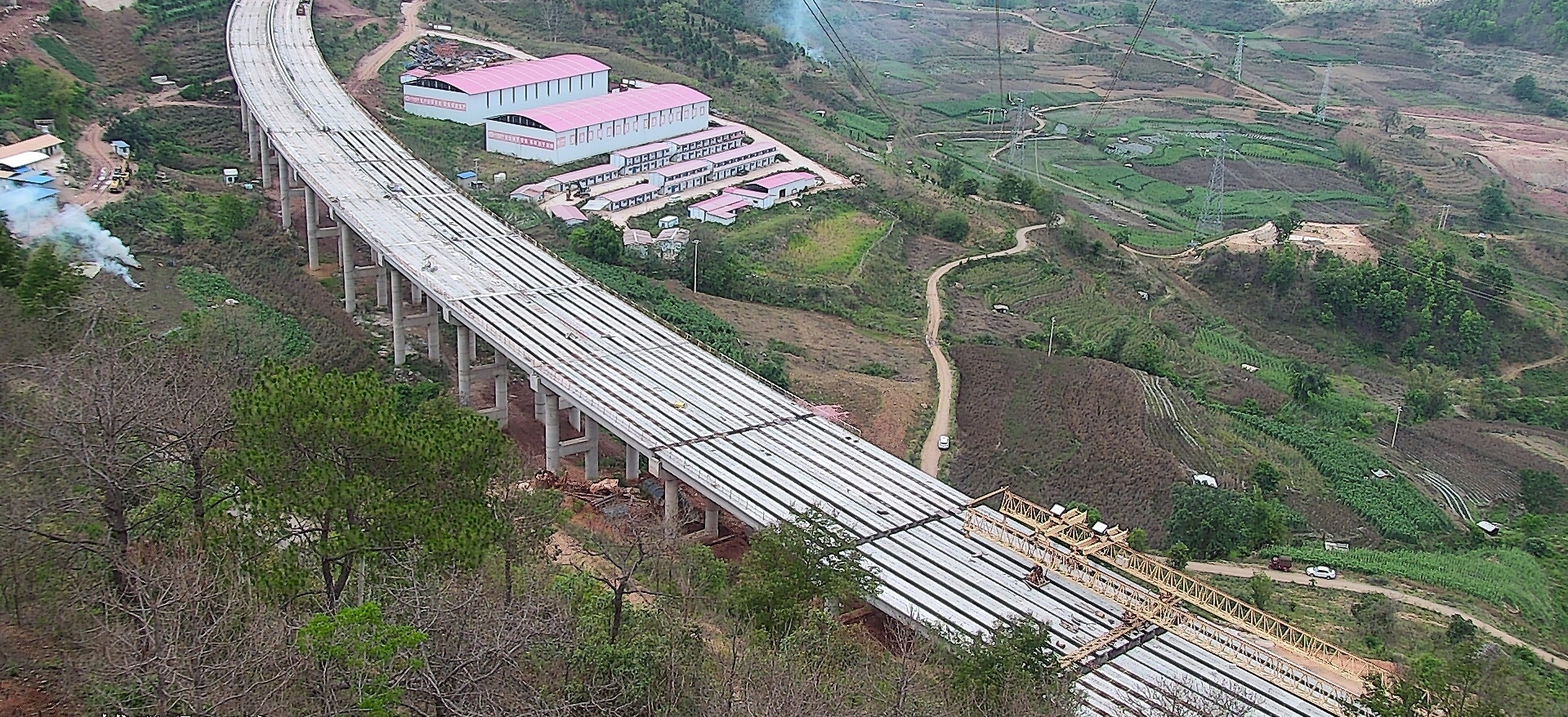烟雾: (0, 179, 145, 292), (762, 0, 832, 69)
